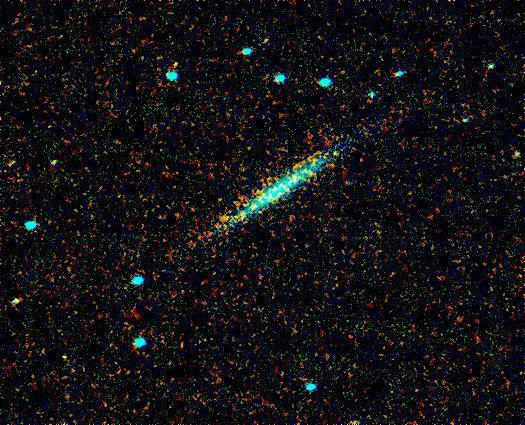star: (249, 26, 279, 56)
